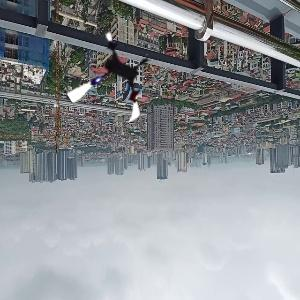drone: (62, 31, 162, 131)
